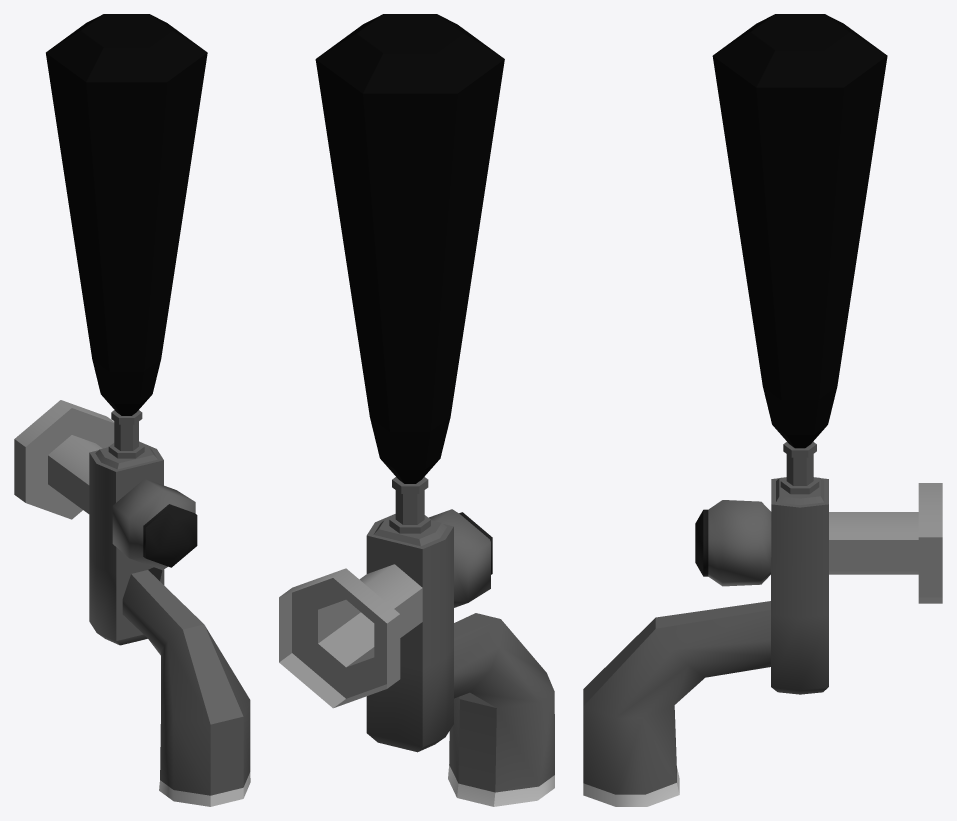
The model's file is tap.glb.
3 views of the same model, side by side, from view 1: azimuth 30°, elevation 25°; view 2: azimuth 150°, elevation 25°; view 3: azimuth 270°, elevation 25° (orthographic). The views are drawn at different scales.
Parts seen in each view (by area): view 1: Lever, Tap; view 2: Lever, Tap; view 3: Lever, Tap.
Boxes of the visible parts, <box> form: Lever: <box>46,14,207,415</box>; Tap: <box>14,400,250,806</box>; Lever: <box>315,14,504,483</box>; Tap: <box>279,477,554,806</box>; Lever: <box>712,14,887,448</box>; Tap: <box>583,441,942,806</box>.
Size of what is drawn, in the model's own units: 0.0956 by 0.5251 by 0.2267.
2 materials, 2 textured.
